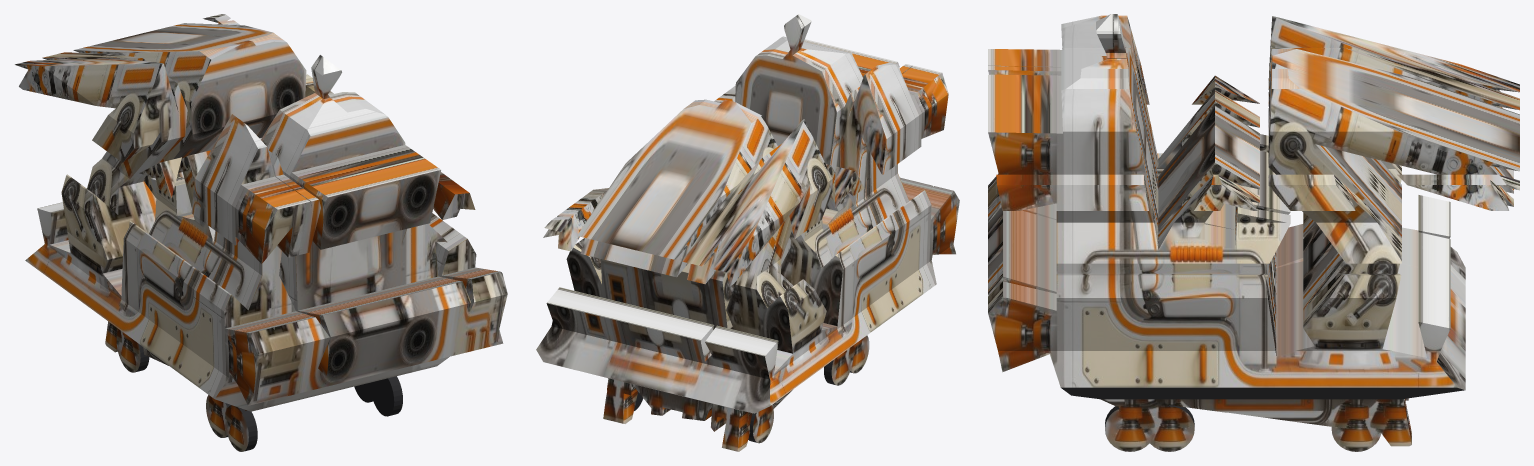
File: eva_sled.glb
The picture shows the model from 3 angles, left to right: view 1: azimuth 30°, elevation 25°; view 2: azimuth 150°, elevation 25°; view 3: azimuth 270°, elevation 25°; orthographic projection. The views are drawn at different scales.
Visible parts, largest first — view 1: eva_sled, wheel_BL, wheel_BR, wheel_FL, wheel_M1L; view 2: eva_sled, wheel_M1L, wheel_FL, wheel_BL; view 3: eva_sled, wheel_M1R, wheel_BR, wheel_FR.
Part boxes in pixels (x1,y1,x2,y2): eva_sled: (15,14,507,411); wheel_BL: (225,405,257,451); wheel_BR: (370,376,402,416); wheel_FL: (116,329,149,372); wheel_M1L: (206,395,230,437); eva_sled: (536,14,959,451); wheel_M1L: (824,347,852,385); wheel_FL: (748,405,773,443); wheel_BL: (848,335,869,373); eva_sled: (988,14,1519,446); wheel_M1R: (1145,405,1194,451); wheel_BR: (1105,406,1154,451); wheel_FR: (1331,406,1381,451).
Bounding box in the file's own units: 1.8 × 2.47 × 2.98.
3 materials, 1 textured.
